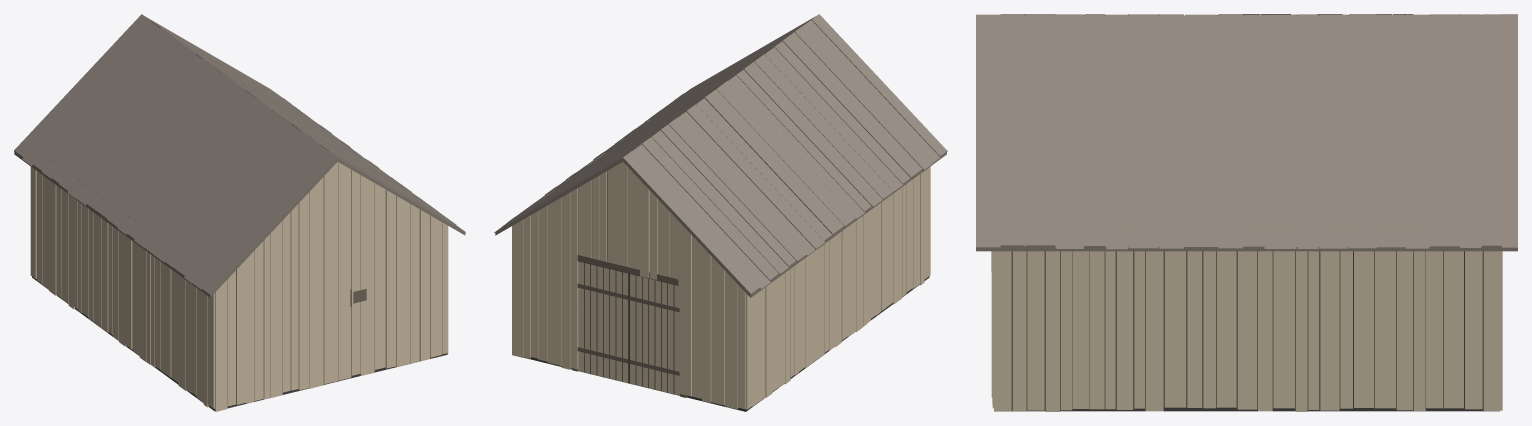
The model's file is recon_1835_canal_trade_w3_005__inferred_1835.glb.
3 renders of one model, left to right at view 1: azimuth 30°, elevation 25°; view 2: azimuth 150°, elevation 25°; view 3: azimuth 270°, elevation 25°, orthographic. The views are drawn at different scales.
Parts seen in each view (by area): view 1: recon_1835_canal_trade_w3_005__inferred_1835; view 2: recon_1835_canal_trade_w3_005__inferred_1835; view 3: recon_1835_canal_trade_w3_005__inferred_1835.
Boxes of the visible parts, x1,y1,x2,y2 form: recon_1835_canal_trade_w3_005__inferred_1835: (14, 14, 465, 411); recon_1835_canal_trade_w3_005__inferred_1835: (494, 14, 947, 411); recon_1835_canal_trade_w3_005__inferred_1835: (976, 14, 1517, 411).
Bounding box in the file's own units: 7.34 × 6.25 × 9.63.
